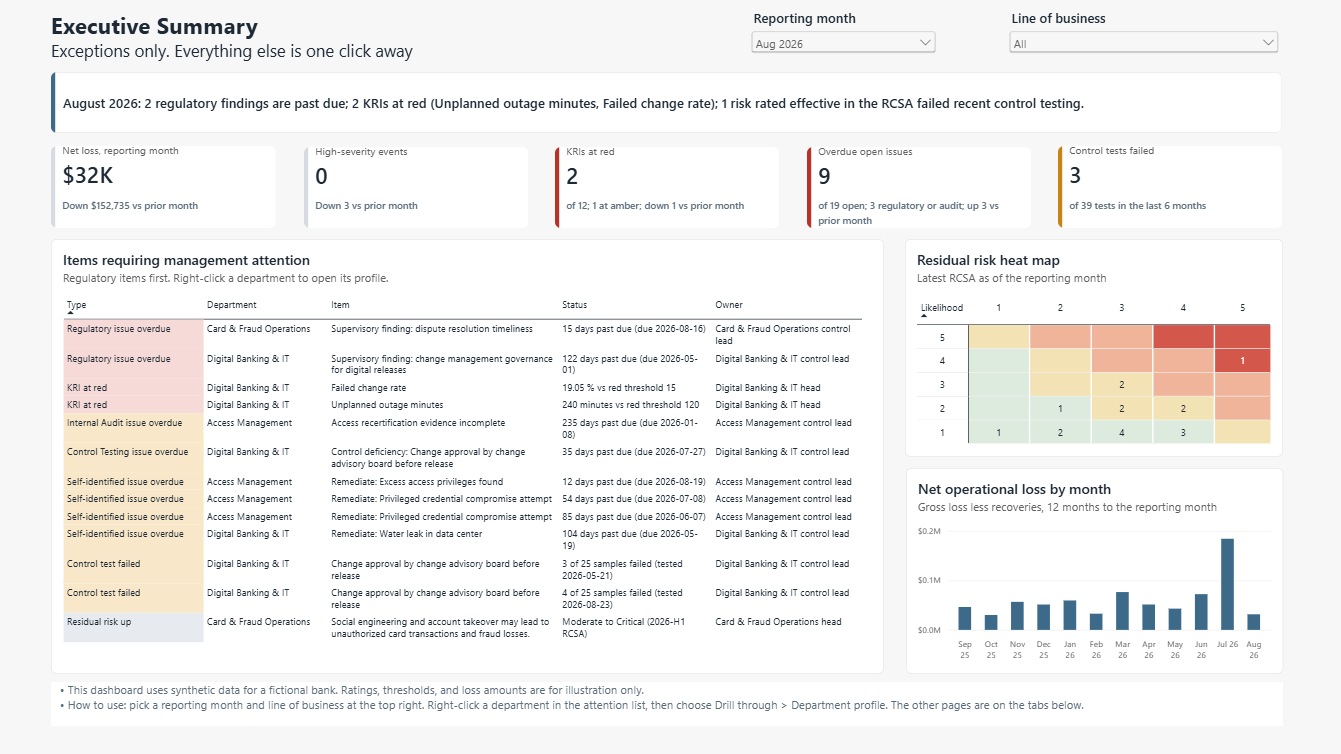

This screenshot's page, from the dashboard's own definition file:
{"tool":"powerbi","page":{"name":"Executive summary","canvas":[1920,1080],"ordinal":0},"visuals":[{"type":"textbox","box":[77.5,15,786.2,92.5],"z":0},{"type":"slicer","fields":{"Values":["ReportMonth.Reporting month"]},"box":[1072.9,15.7,272.9,91.4],"z":1000},{"type":"slicer","fields":{"Values":["Dim_Department.LOB"]},"box":[1441.4,15.7,394.3,88.6],"z":2000},{"type":"cardVisual","fields":{"Data":["_Measures.Narrative"]},"box":[77.5,105,1758.8,87.5],"z":3000},{"type":"cardVisual","fields":{"Data":["_Measures.Net Loss (Sel)"]},"box":[77.5,211.2,321.2,117.5],"z":4000},{"type":"cardVisual","fields":{"Data":["_Measures.High Sev Events (Sel)"]},"box":[438.1,212.5,320,116.2],"z":6000},{"type":"cardVisual","fields":{"Data":["_Measures.KRIs Red (Sel)"]},"box":[797.5,212.5,320,116.2],"z":8000},{"type":"cardVisual","fields":{"Data":["_Measures.Overdue Issues (Sel)"]},"box":[1156.9,212.5,320,116.2],"z":10000},{"type":"cardVisual","fields":{"Data":["_Measures.Deficient Tests Last 6M"]},"box":[1516.2,211.2,320,117.5],"z":12000},{"type":"tableEx","title":"Items requiring management attention","fields":{"Values":["Exceptions.ItemType","Dim_Department.Department","Exceptions.Item","Exceptions.Detail","Exceptions.Owner"]},"box":[77.1,344.3,1190,621.4],"z":14000},{"type":"pivotTable","title":"Residual risk heat map","fields":{"Columns":["Axis_Impact.Impact"],"Values":["_Measures.Heat Label"],"Rows":["Axis_Likelihood.Likelihood"]},"box":[1297.1,344.3,540,311.4],"z":15000},{"type":"clusteredColumnChart","title":"Net operational loss by month","fields":{"Category":["Dim_Date.MonthShort"],"Y":["_Measures.Net Loss (Trend)"]},"box":[1298.6,671.4,538.6,294.3],"z":16000},{"type":"textbox","box":[77.1,977.1,1760,62.9],"z":17001}]}

Visuals, with their boxes in screenshot pixels (x1, y1, x2, y2), scaled from the page's 1920x1080 canvas onto the 1341x754 screenshot:
textbox: box(54, 10, 603, 75)
slicer - ReportMonth.Reporting month: box(749, 11, 940, 75)
slicer - Dim_Department.LOB: box(1007, 11, 1282, 73)
cardVisual - _Measures.Narrative: box(54, 73, 1283, 134)
cardVisual - _Measures.Net Loss (Sel): box(54, 147, 278, 229)
cardVisual - _Measures.High Sev Events (Sel): box(306, 148, 529, 229)
cardVisual - _Measures.KRIs Red (Sel): box(557, 148, 781, 229)
cardVisual - _Measures.Overdue Issues (Sel): box(808, 148, 1032, 229)
cardVisual - _Measures.Deficient Tests Last 6M: box(1059, 147, 1282, 229)
"Items requiring management attention" tableEx: box(54, 240, 885, 674)
"Residual risk heat map" pivotTable: box(906, 240, 1283, 458)
"Net operational loss by month" clusteredColumnChart: box(907, 469, 1283, 674)
textbox: box(54, 682, 1283, 726)
